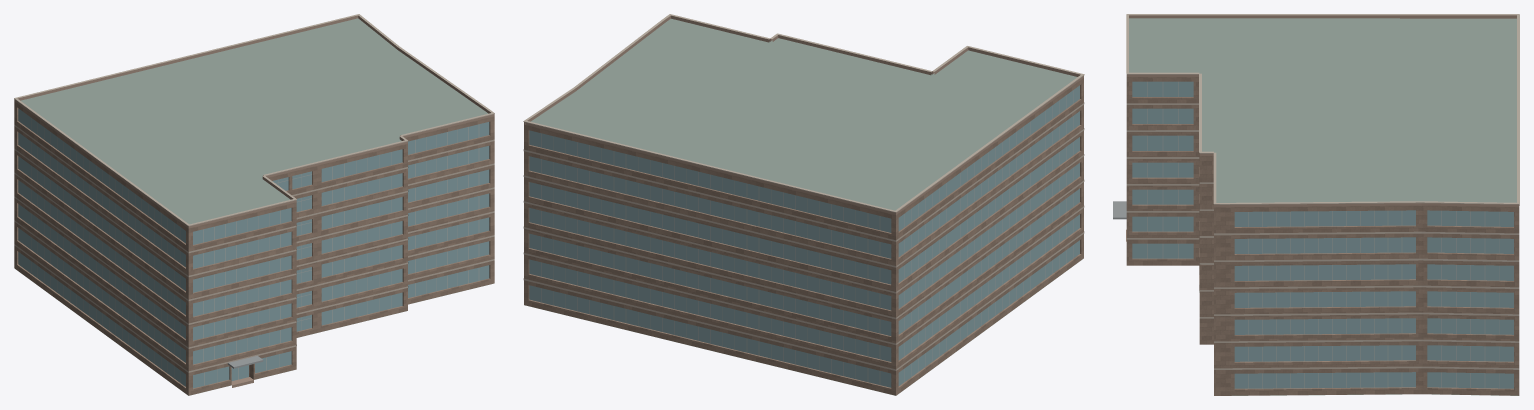
3 renders of one model, left to right at view 1: azimuth 30°, elevation 25°; view 2: azimuth 150°, elevation 25°; view 3: azimuth 270°, elevation 25°, orthographic. The views are drawn at different scales.
Visible parts, largest first — view 1: hyegang__roof, hyegang__glass, hyegang__wall, hyegang__trim, hyegang__frame, hyegang__parapet; view 2: hyegang__glass, hyegang__roof, hyegang__wall, hyegang__trim, hyegang__frame, hyegang__parapet; view 3: hyegang__roof, hyegang__wall, hyegang__glass, hyegang__trim, hyegang__parapet, hyegang__frame.
Part boxes in pixels (x1,y1,x2,y2): hyegang__roof: [15, 18, 487, 395]; hyegang__glass: [18, 108, 489, 388]; hyegang__wall: [14, 101, 494, 395]; hyegang__trim: [14, 14, 494, 372]; hyegang__frame: [31, 118, 479, 385]; hyegang__parapet: [14, 15, 494, 228]; hyegang__glass: [529, 85, 1079, 387]; hyegang__roof: [525, 18, 1082, 395]; hyegang__wall: [524, 78, 1083, 395]; hyegang__trim: [523, 14, 1084, 370]; hyegang__frame: [541, 90, 1073, 384]; hyegang__parapet: [524, 15, 1083, 214]; hyegang__roof: [1129, 18, 1518, 395]; hyegang__wall: [1126, 77, 1519, 395]; hyegang__glass: [1132, 81, 1513, 388]; hyegang__trim: [1126, 14, 1519, 369]; hyegang__parapet: [1126, 15, 1519, 207]; hyegang__frame: [1147, 81, 1499, 388].
Bounding box in the file's own units: 55.97 × 26.75 × 50.63.
Materials: 9 (1 with a texture image).
